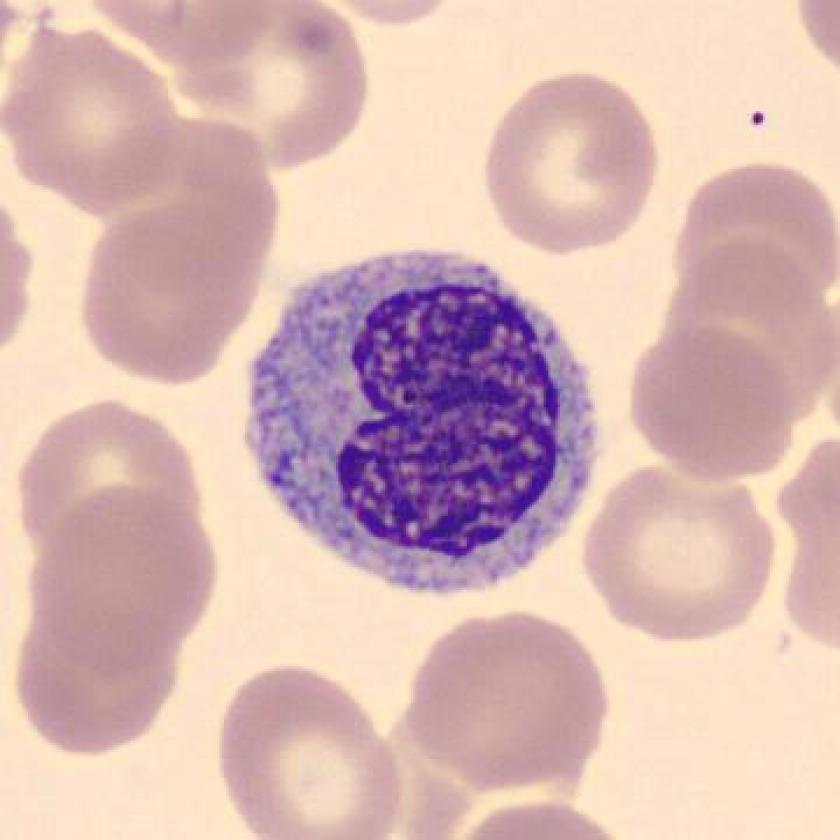monocyte: (232, 228, 622, 614)
